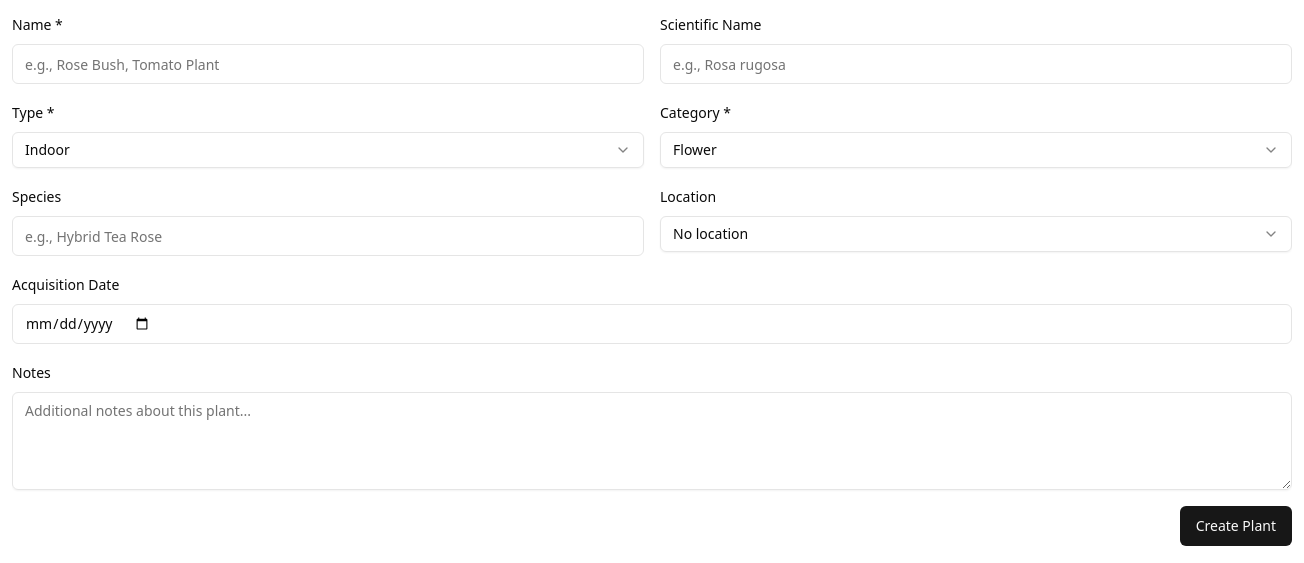
Test: PlantForm › displays location options from useLocations hook
What coordinates should you click on to do the following:
click the dropdown labelled "No location"
I would click on:
 (711, 234)
Its box is top-left (660, 216), bottom-right (1292, 252).
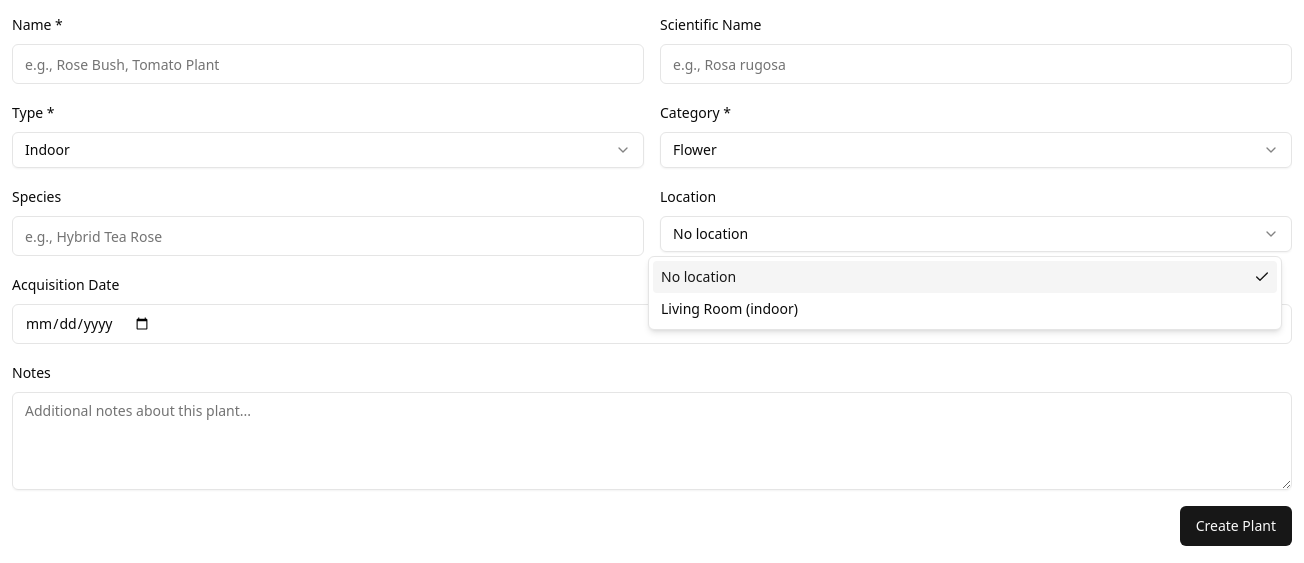
Result: the option "No location" is shown at top-left (653, 261), bottom-right (1277, 293)
Result: the option "Living Room (indoor)" is shown at top-left (661, 299), bottom-right (798, 318)
